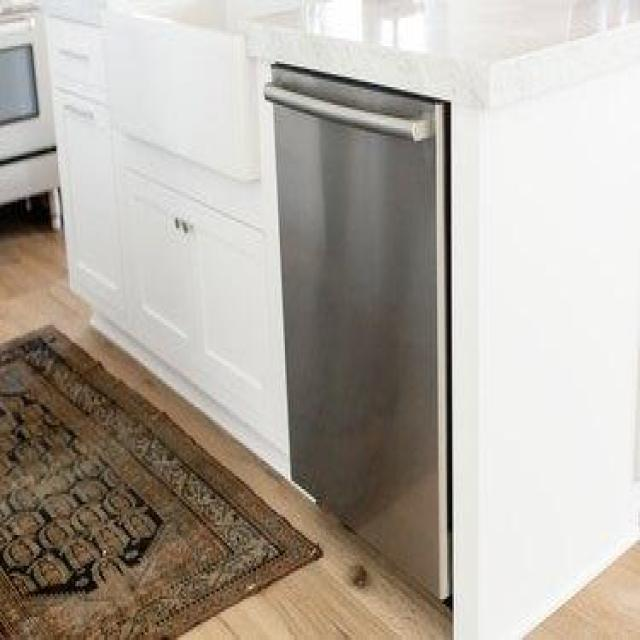dishwasher: (261, 53, 465, 617)
